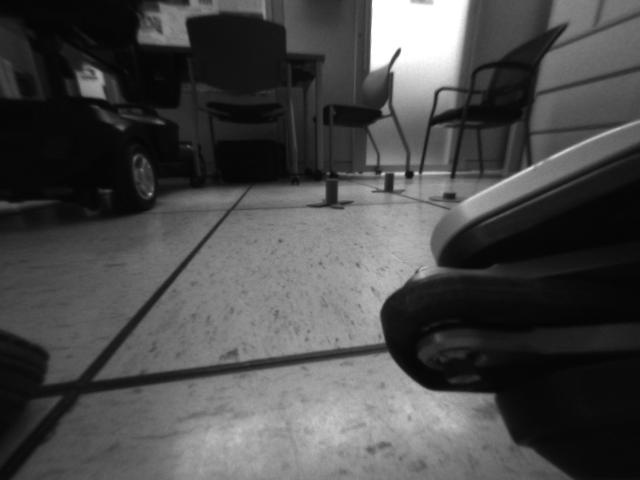X: (307, 177, 354, 209), (369, 170, 406, 194)
